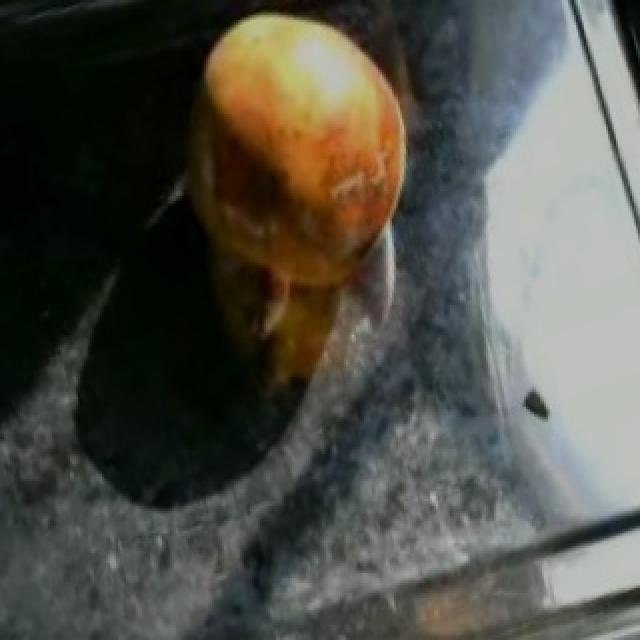fruit: (170, 0, 440, 278)
